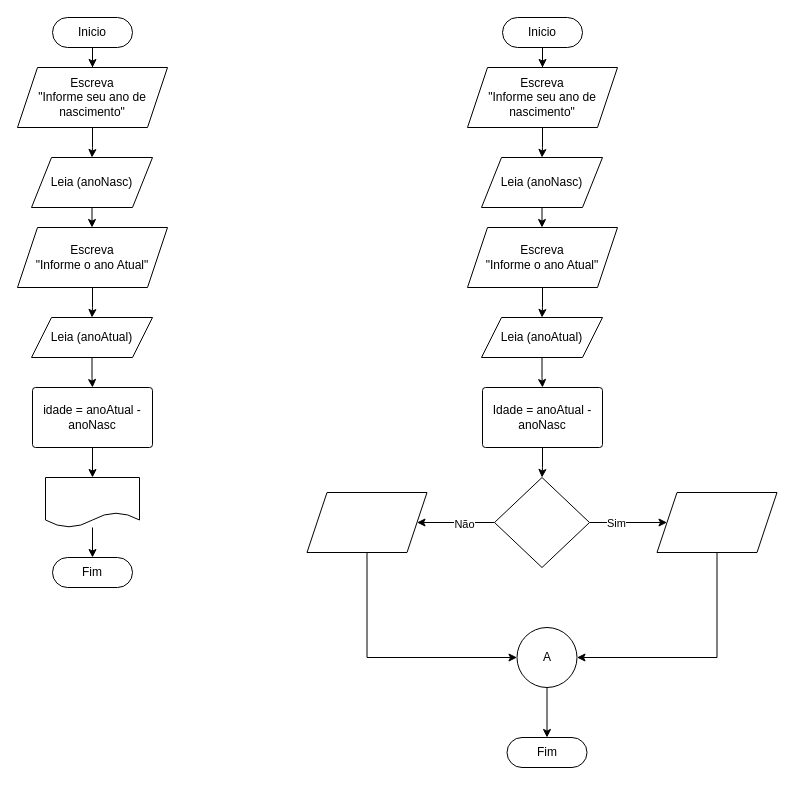
This 795x785 diagram has some shape labels left out. The shapes that lost their labels are listed below. From the top down, each one's box as (x1, y1, x2, y2) in pixels, then its label:
(44, 476, 140, 528): Idade
(306, 492, 427, 552): Escreva ("Menor de idade")
(494, 476, 590, 568): Idade >= 18
(656, 492, 777, 552): Escreva ("Maior de idade")
